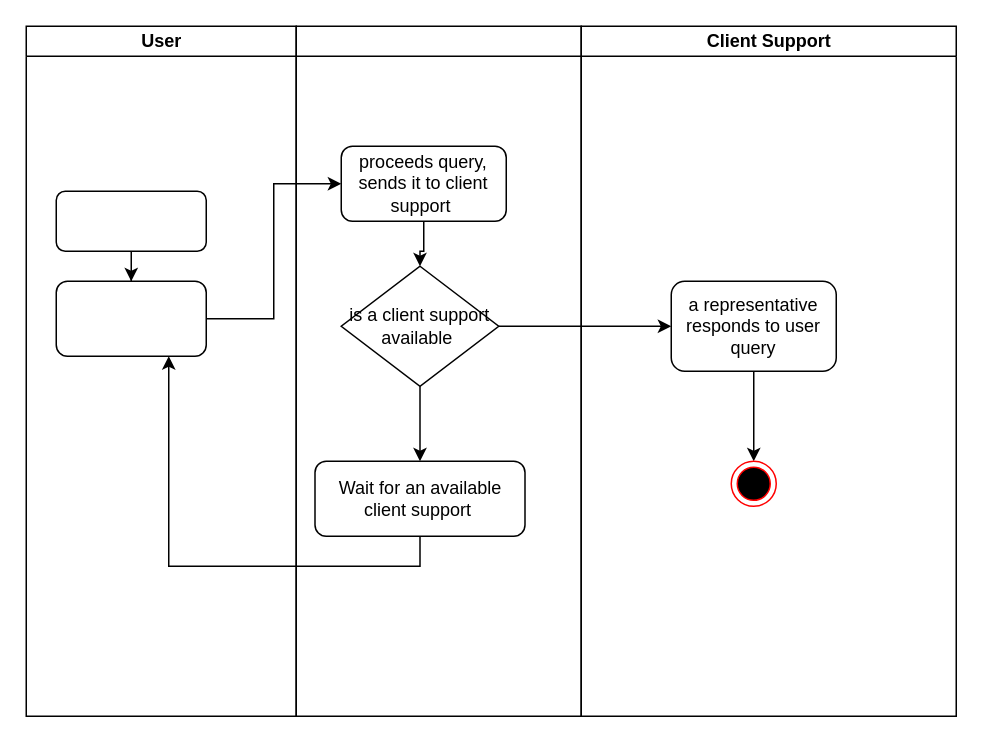
Some shapes in this 983 by 743 pixel diagram are drawn without their labels. The shapes that lost their labels are listed below. From the top down, each one's box as (x1, y1, x2, y2) in pixels, then its label:
(55, 190, 206, 251): User navigates to the website
(55, 280, 206, 356): Enters query in the live chat box
(295, 25, 581, 716): System
